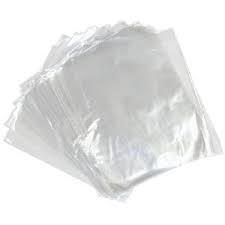Zip plastic bag: (4, 8, 220, 213)
